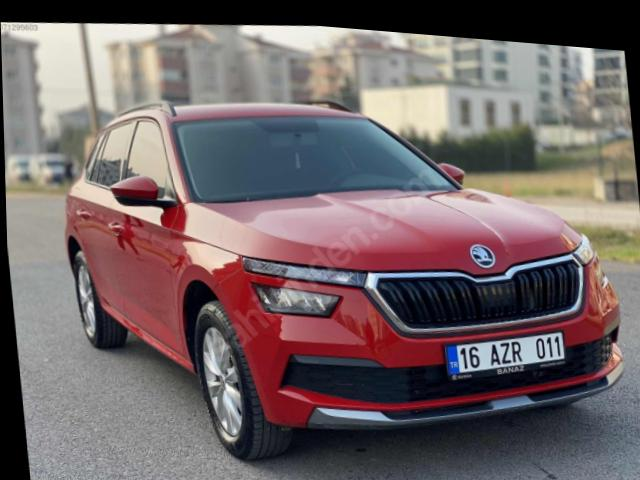plaka: (446, 332, 564, 374)
